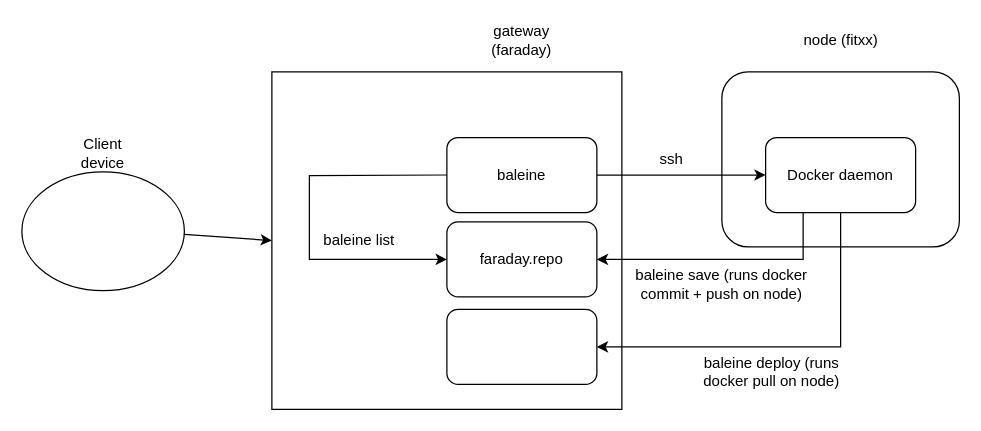
Image size: 981x431. Some labels were removed from this diagram. Each missing label, with the centre of its shape:
Proxy repo: point (521, 346)
SSH Python: point (102, 231)
